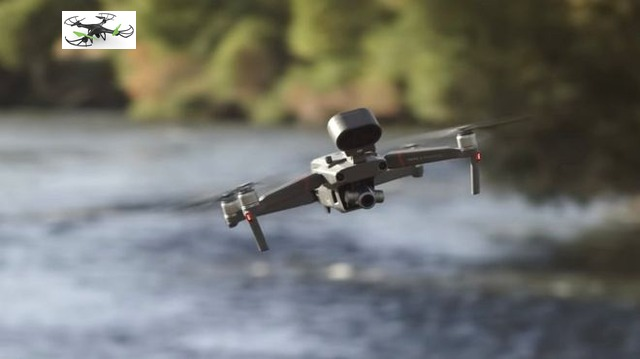drone: (215, 107, 531, 254), (62, 11, 136, 49)
